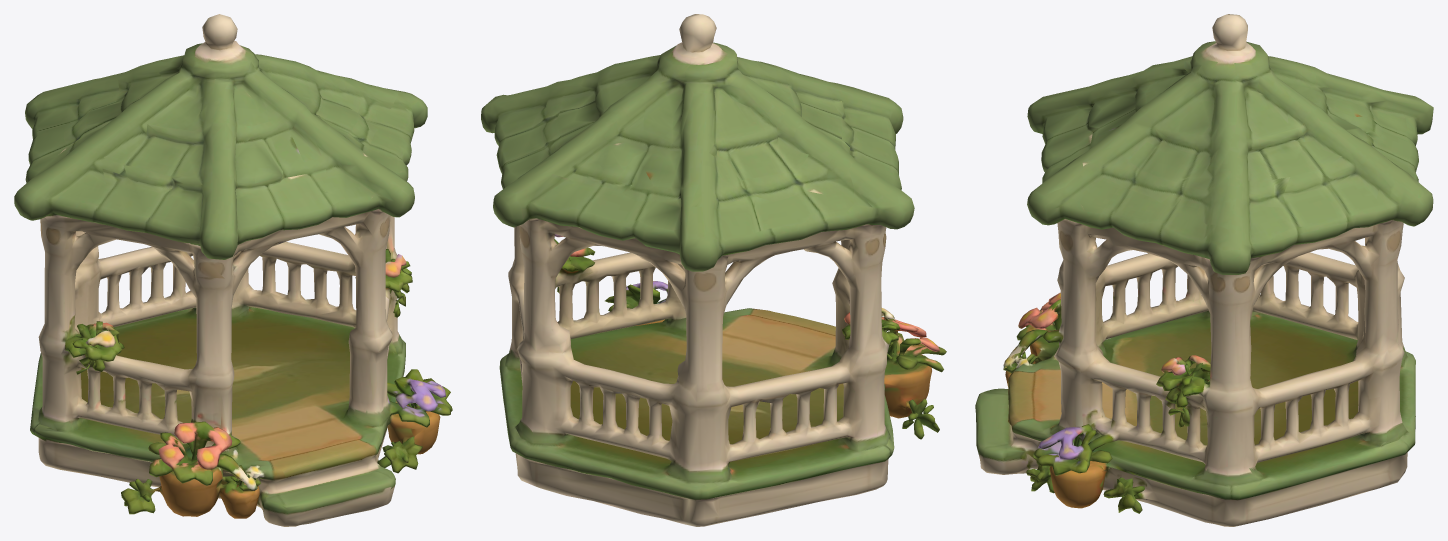
3 views of the same model, side by side, from view 1: azimuth 30°, elevation 25°; view 2: azimuth 150°, elevation 25°; view 3: azimuth 270°, elevation 25° (orthographic). The views are drawn at different scales.
Parts seen in each view (by area): view 1: gazebo; view 2: gazebo; view 3: gazebo.
Part boxes in pixels (left/top/right/bottom): gazebo: left=14, top=14, right=452, bottom=526; gazebo: left=481, top=14, right=946, bottom=526; gazebo: left=975, top=14, right=1433, bottom=526.
Bounding box in the file's own units: 4.08 × 4 × 3.85.
1 material, 1 textured.
